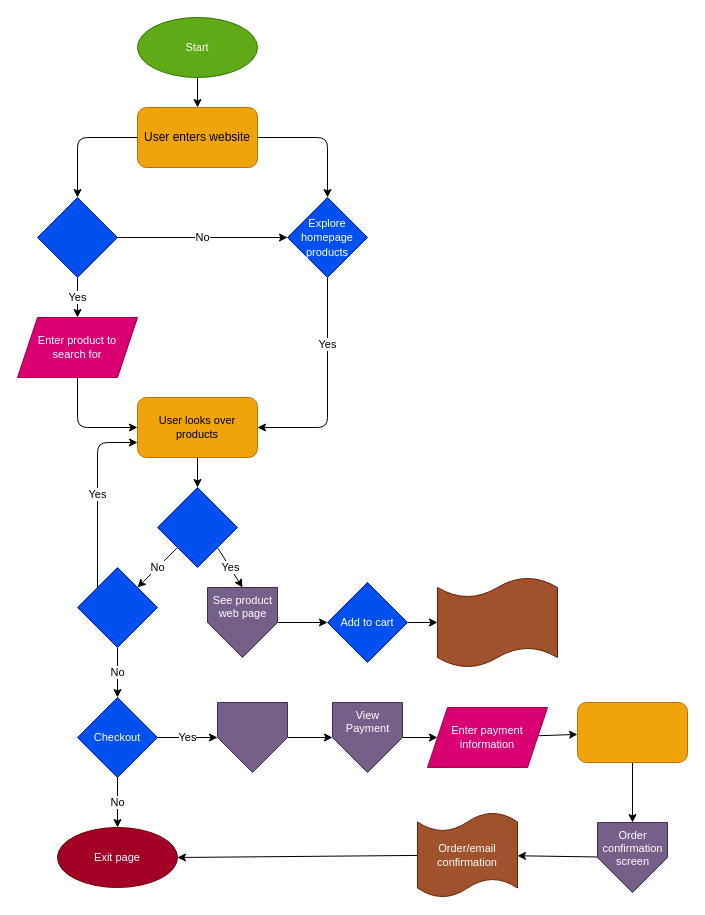
This 705x915 diagram has some shape labels left out. Here are the shapes that lost their labels. From the top down, the centre of each, then its label:
point (77, 237): Search for product
point (197, 527): View specific product
point (117, 607): Continue shopping
point (497, 622): Added to cart confirmation message
point (252, 737): View Cart
point (632, 732): User pays
